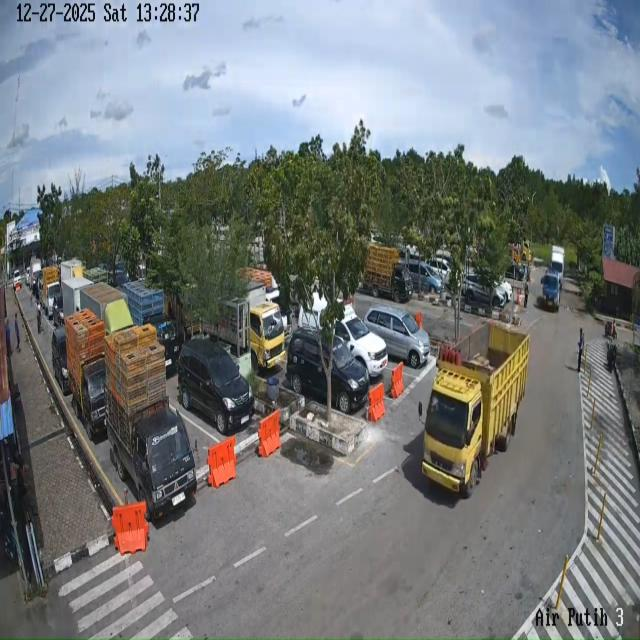Golongan IVA: (177, 339, 255, 435), (285, 328, 370, 413), (364, 304, 430, 369), (462, 273, 507, 309), (51, 326, 71, 395)
Golongan IVB: (104, 397, 196, 521), (72, 350, 115, 439), (362, 243, 413, 303), (41, 266, 60, 319)
Golongan VB: (419, 321, 529, 497), (203, 281, 286, 370), (540, 267, 566, 315)
